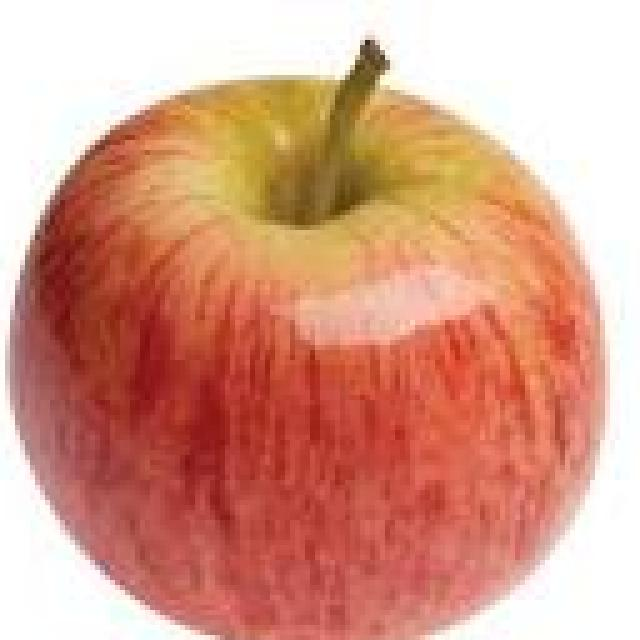apple: (0, 25, 620, 640)
